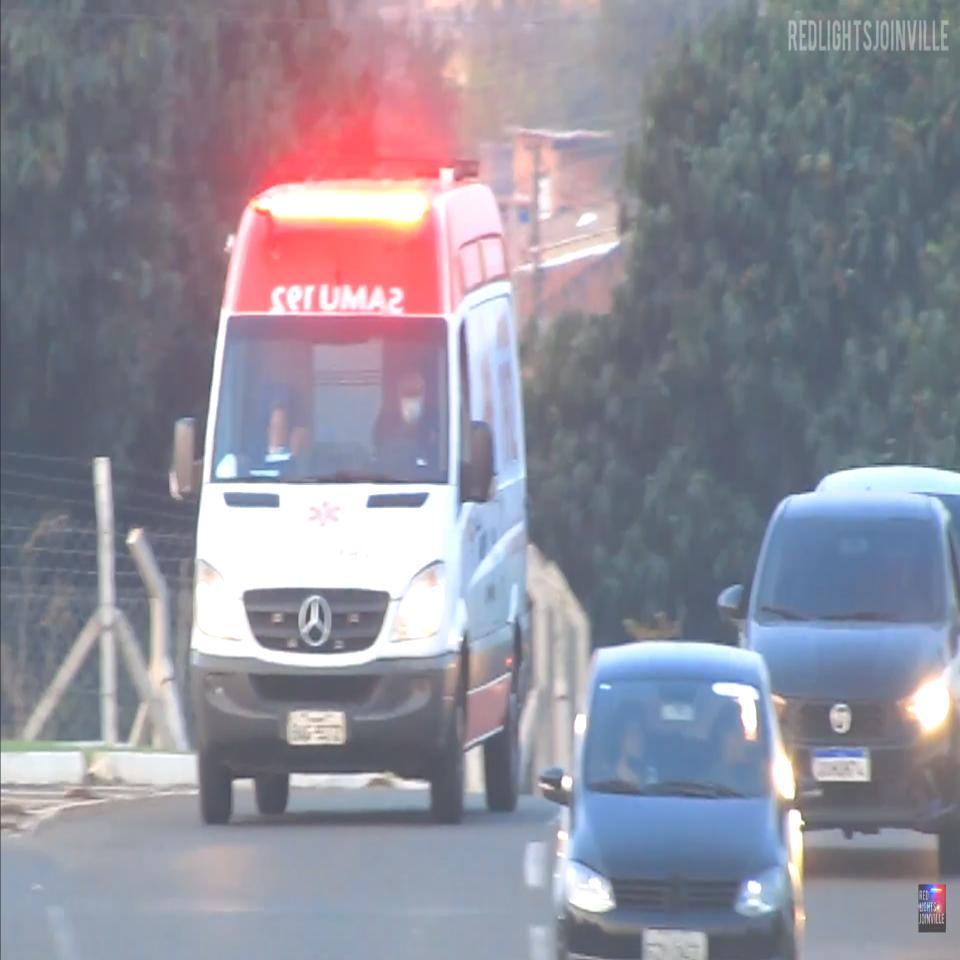ambulancia: (170, 156, 536, 824)
